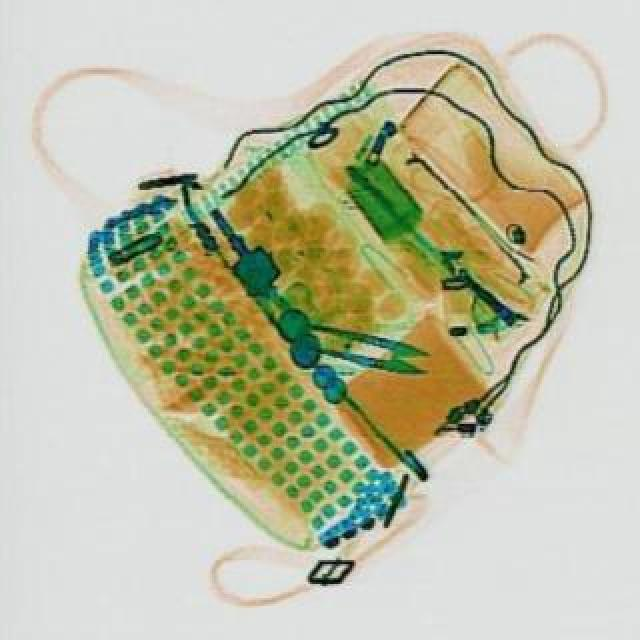pliers: (290, 318, 434, 378)
